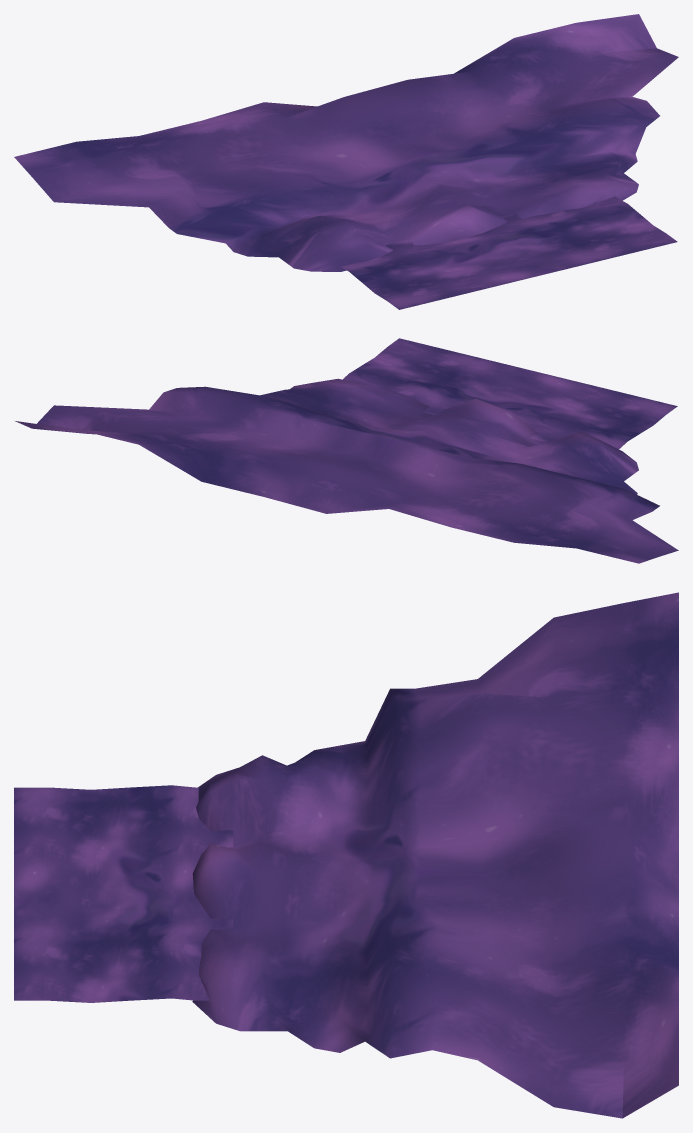
File: EnviroFloor2FBX.fbx
3 renders of one model, top to bottom at view 1: azimuth 30°, elevation 25°; view 2: azimuth 150°, elevation 25°; view 3: azimuth 270°, elevation 25°, orthographic. The views are drawn at different scales.
Visible parts, largest first — view 1: pPlane1, pPlane3; view 2: pPlane1, pPlane3; view 3: pPlane1, pPlane3.
Part boxes in pixels (x1,y1,x2,y2): pPlane1: [14, 14, 678, 271]; pPlane3: [340, 196, 677, 309]; pPlane1: [15, 378, 678, 563]; pPlane3: [343, 338, 677, 449]; pPlane1: [192, 592, 678, 1118]; pPlane3: [14, 785, 233, 1002].
Size of the model in its own units: 1089 by 90.12 by 640.
2 materials, 2 textured.
